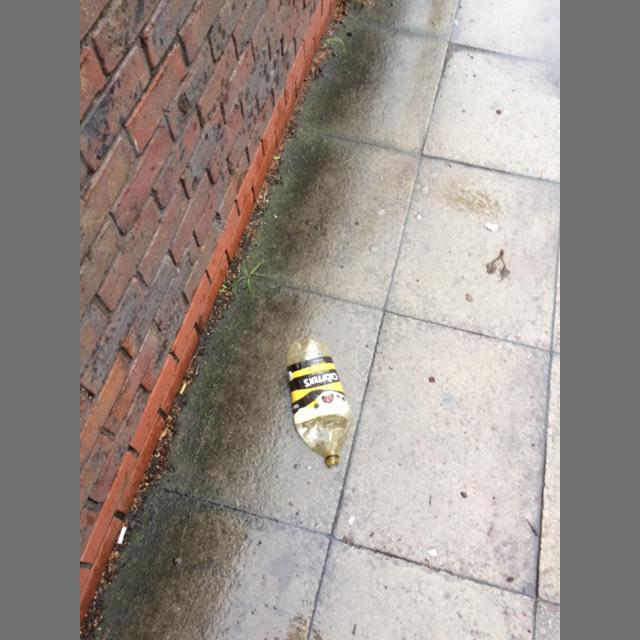litter: (287, 338, 354, 468), (118, 527, 127, 544), (179, 383, 187, 395)
